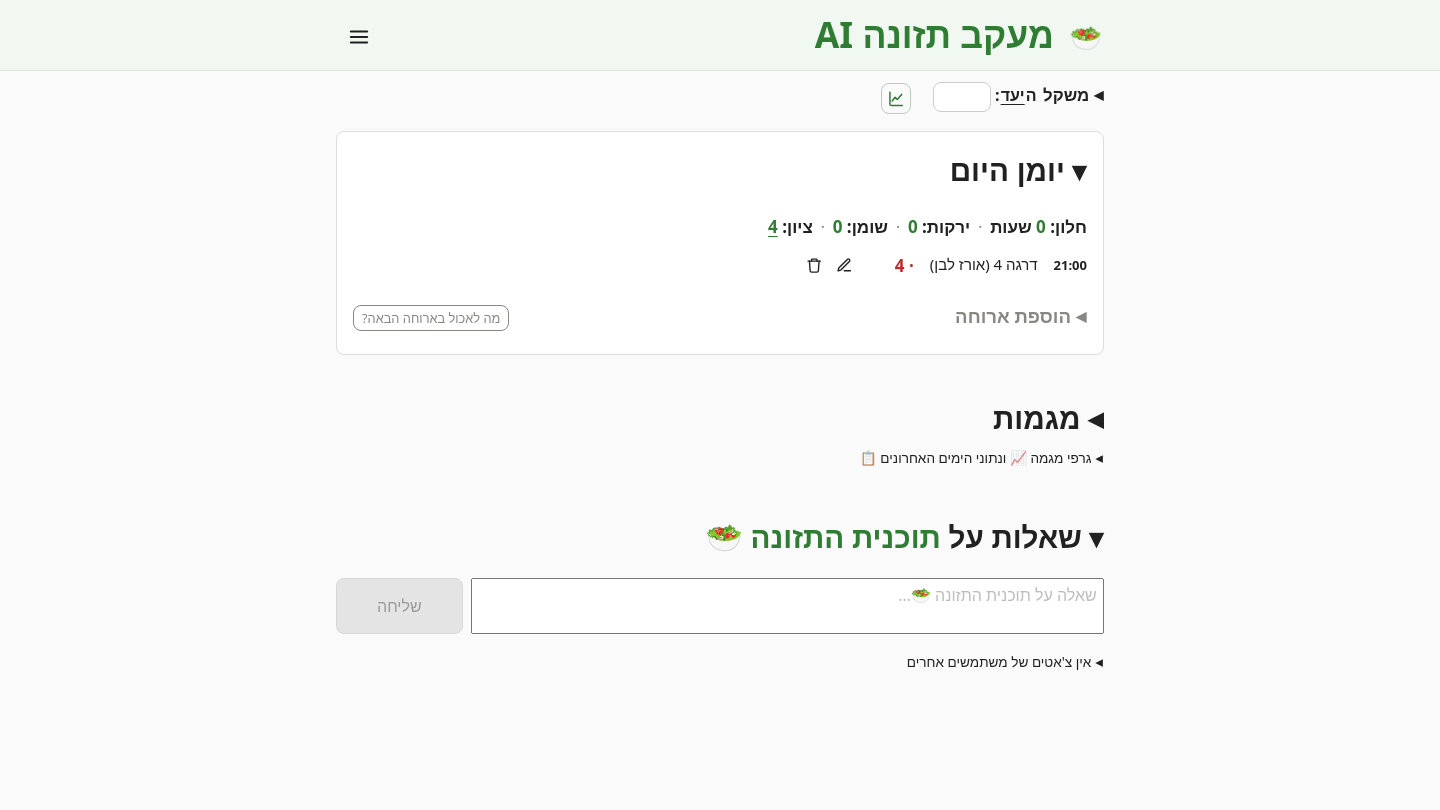
App › trims the journal's grade names from the menu and remembers the density
Expected: the button "יומן היום" is shown, [949, 148, 1087, 191]
Expected: the text "דרגה 4 (אורז לבן)" is shown, [930, 254, 1038, 274]
Click the button named "תפריט חשבון": (359, 37) [336, 13, 382, 60]
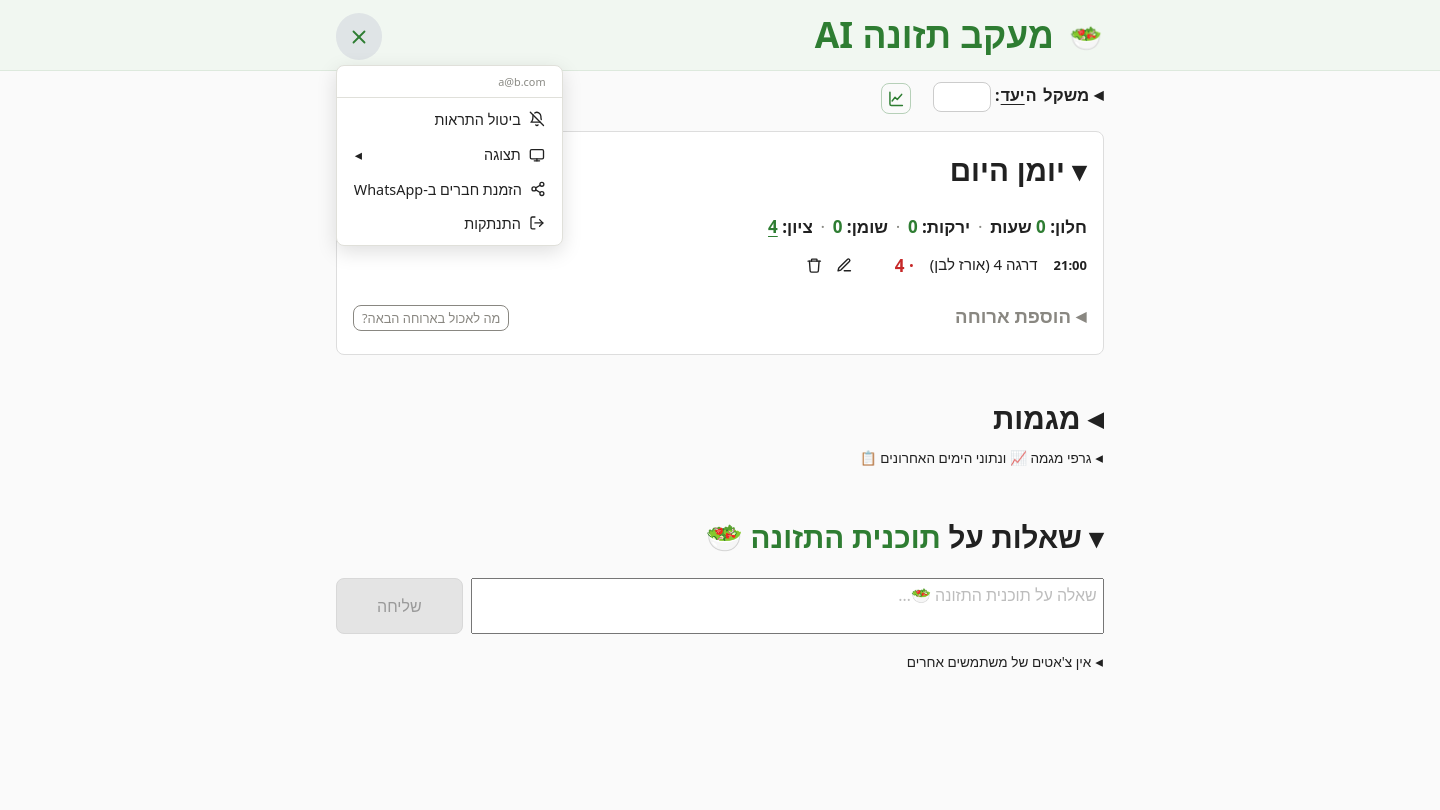
Click the menu item "תצוגה": (450, 155) [341, 137, 558, 172]
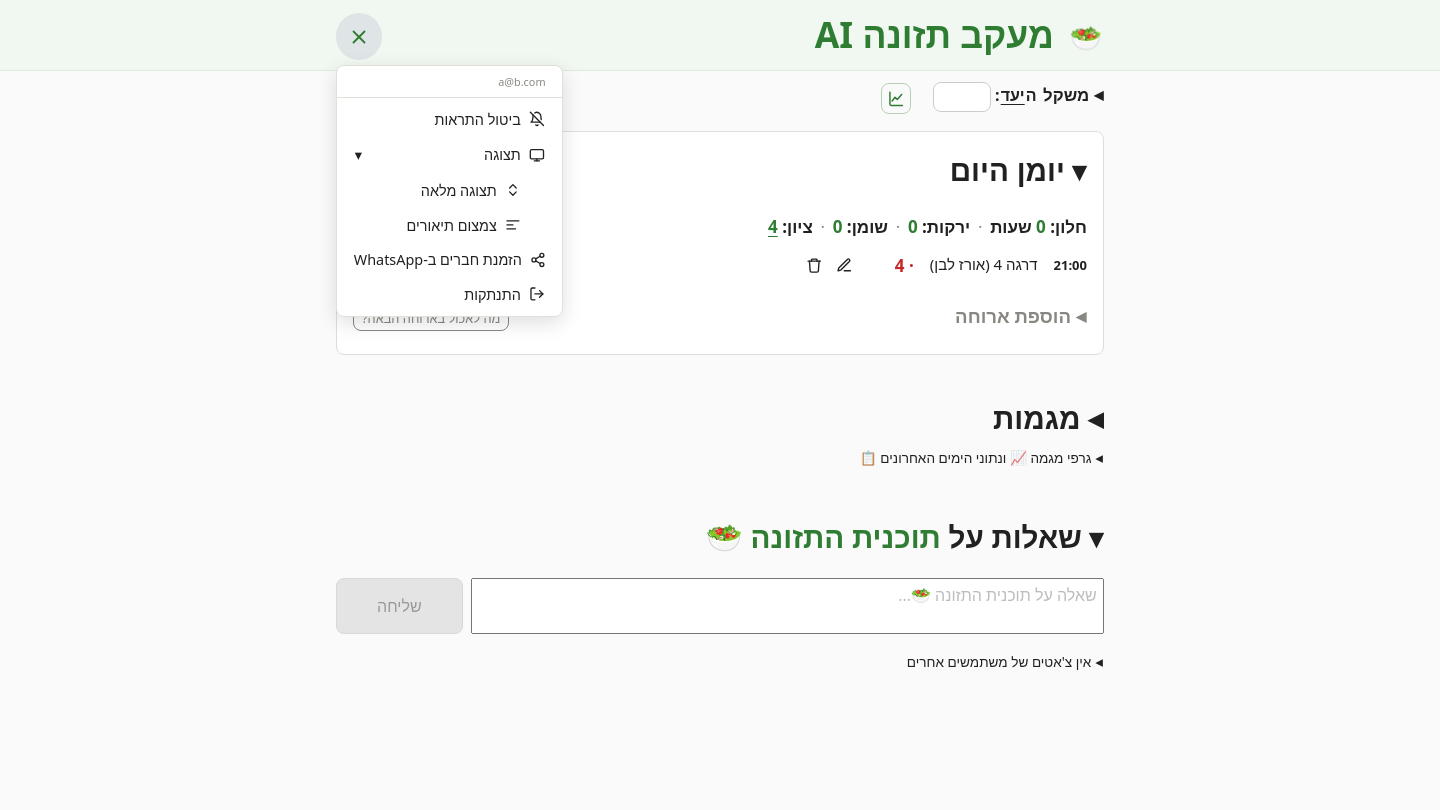
Click the menu item "צמצום תיאורים": (450, 225) [341, 208, 558, 243]
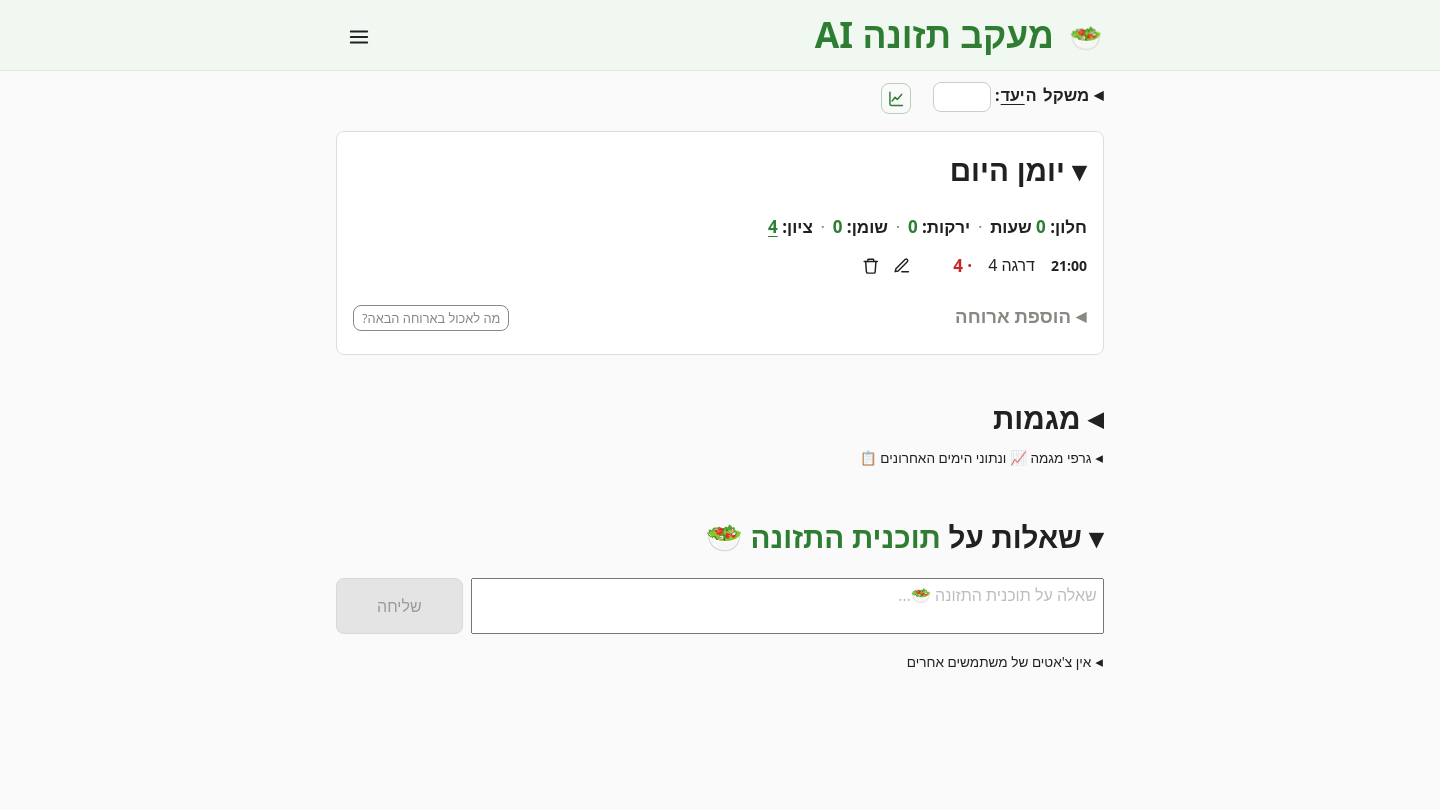
Expected: the text "דרגה 4" is shown, [988, 254, 1035, 276]
Result: the text "דרגה 4 (אורז לבן)" is gone
Click the button named "תפריט חשבון": (359, 37) [336, 13, 382, 60]
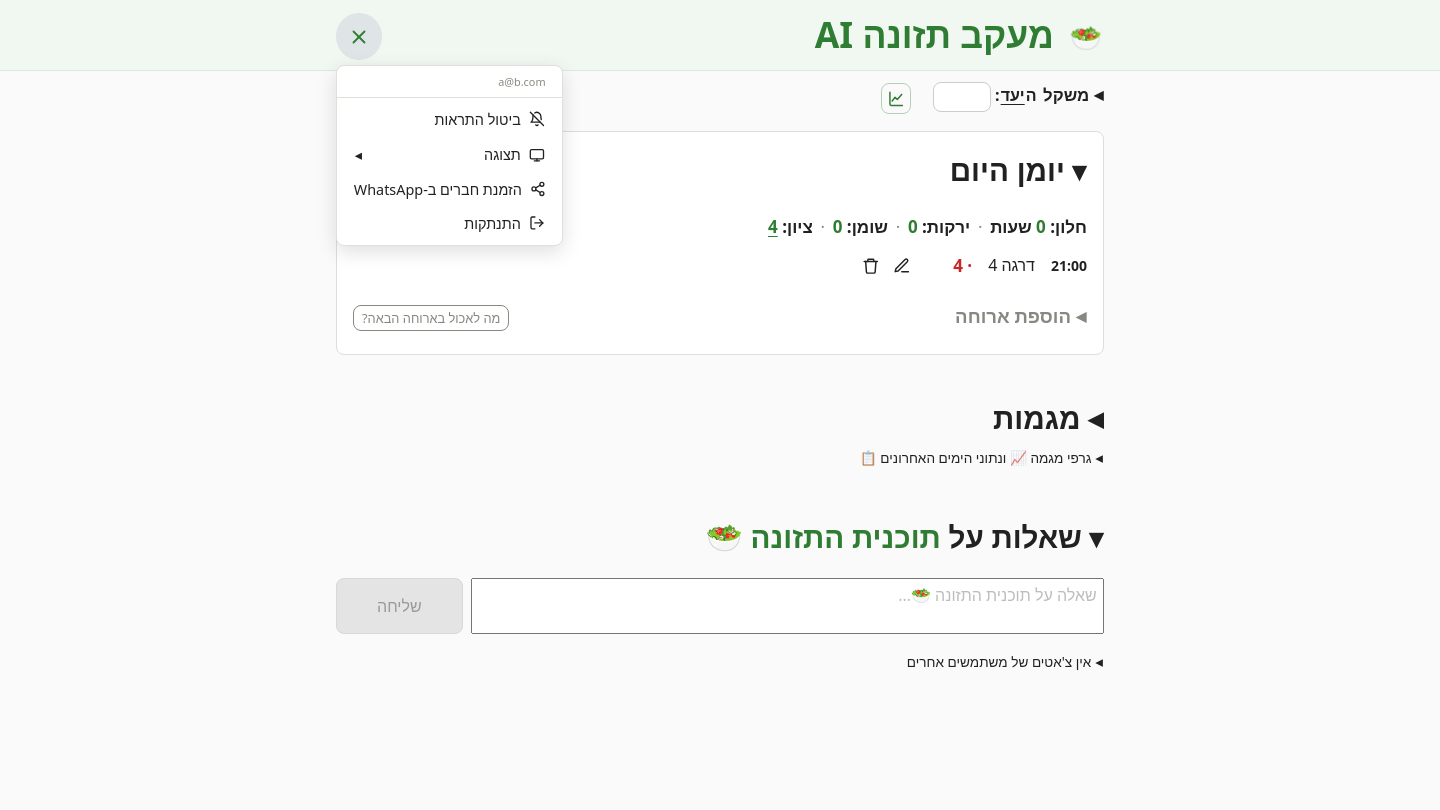
Click the menu item "תצוגה": (450, 155) [341, 137, 558, 172]
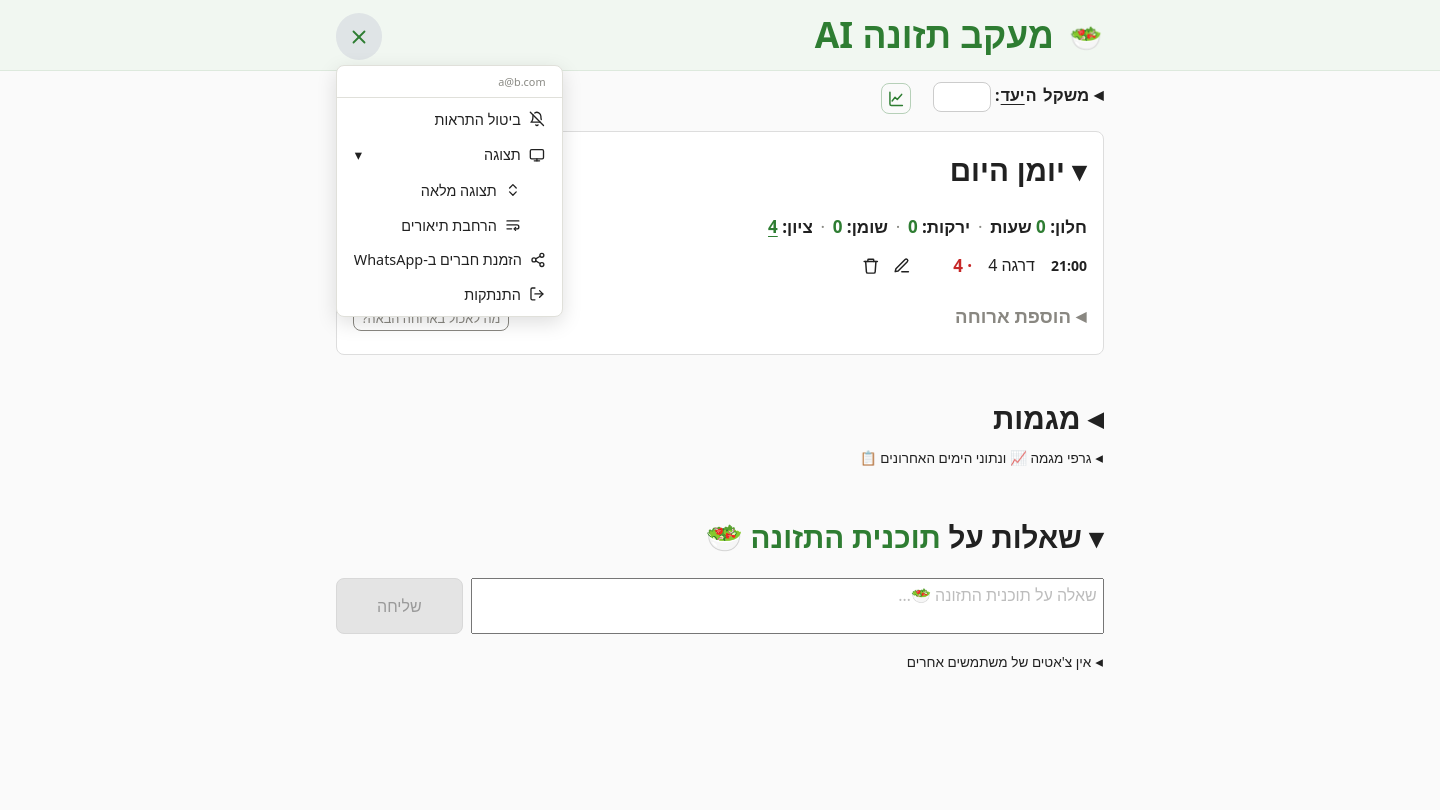
Click the menu item "הרחבת תיאורים": (450, 225) [341, 208, 558, 243]
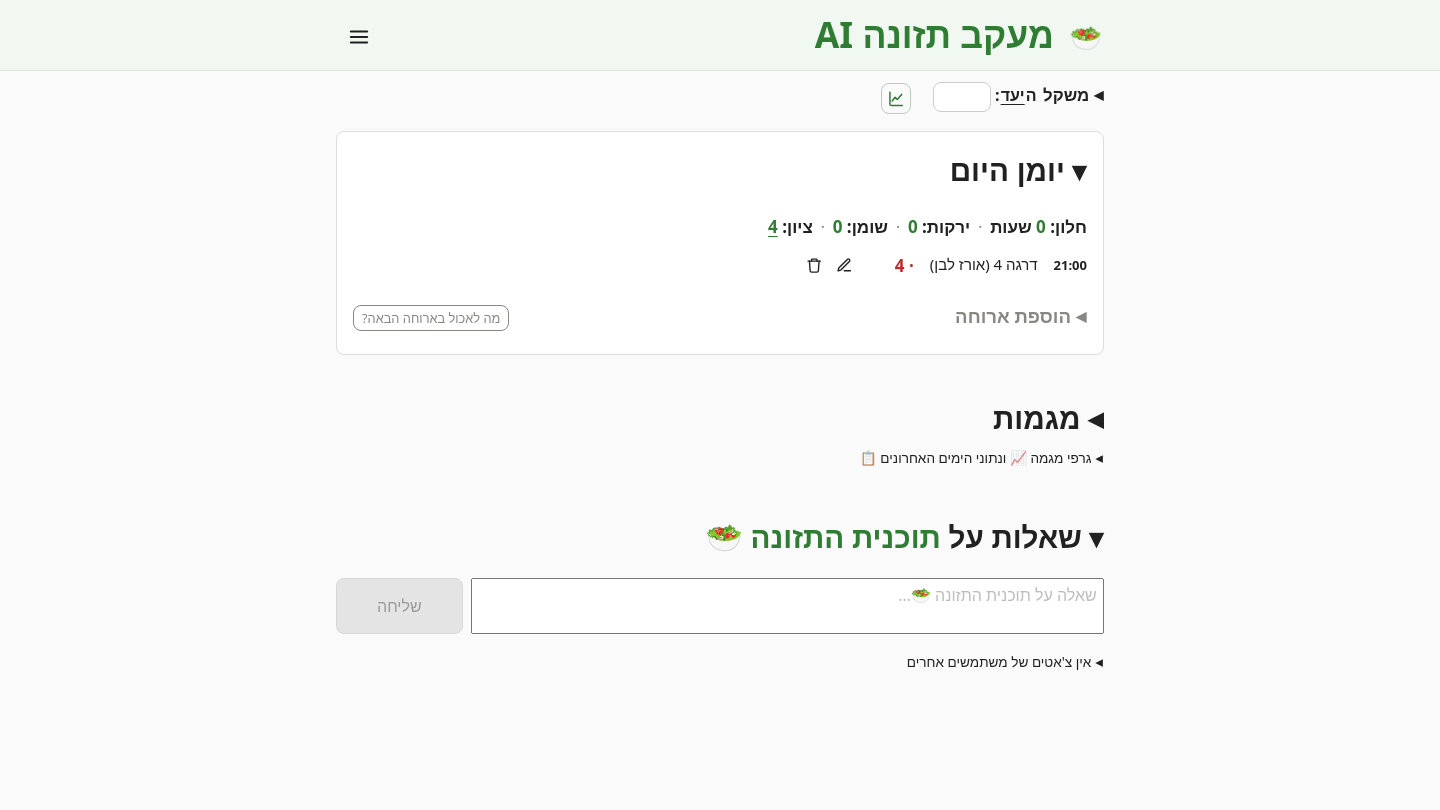
Result: the text "דרגה 4 (אורז לבן)" is shown at [930, 254, 1038, 274]
